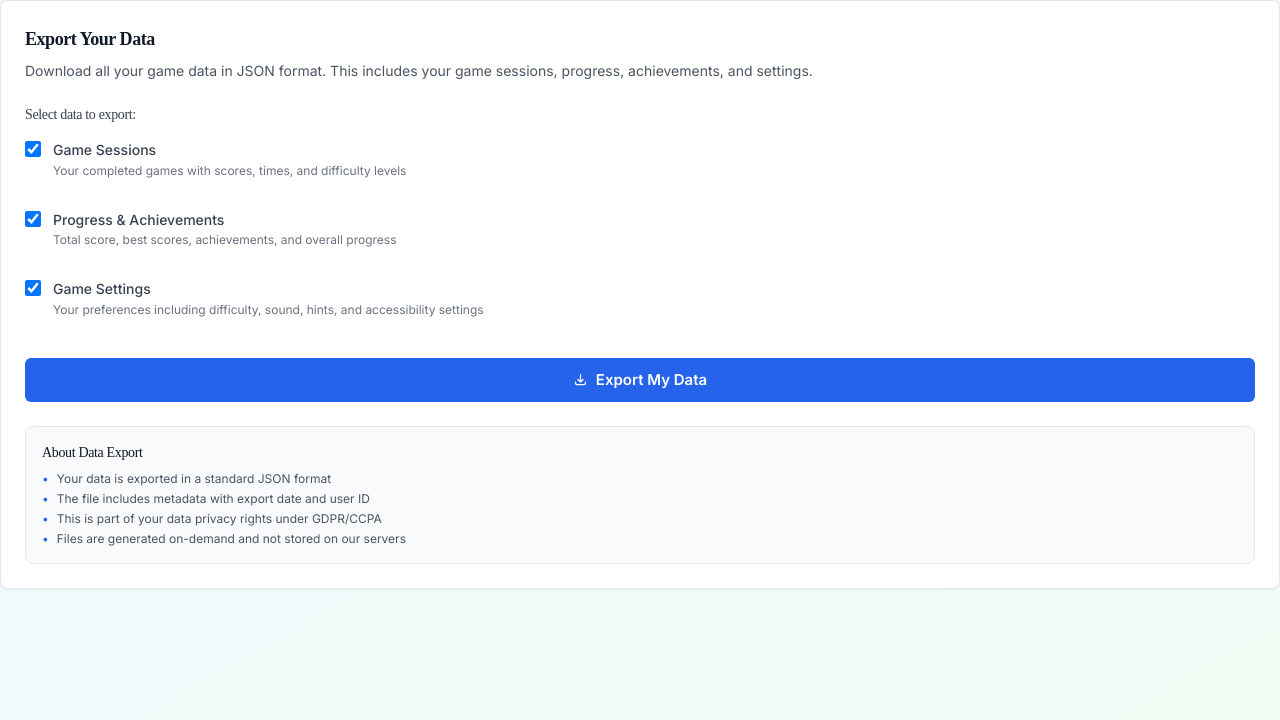
ExportData Component › Loading States › should show success message after completion
Click the button "Export My Data": click(640, 380) [25,358,1255,402]
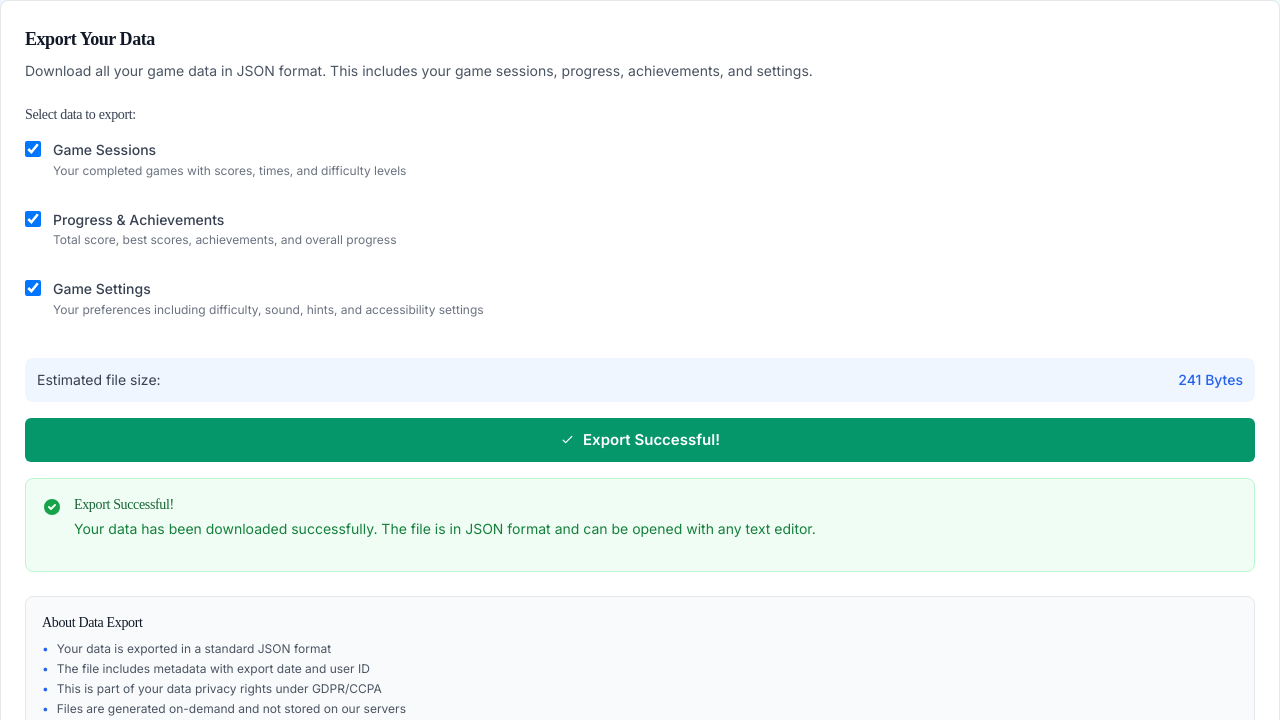
Now the button "Export Successful!" is shown, box [25,418,1255,462]
